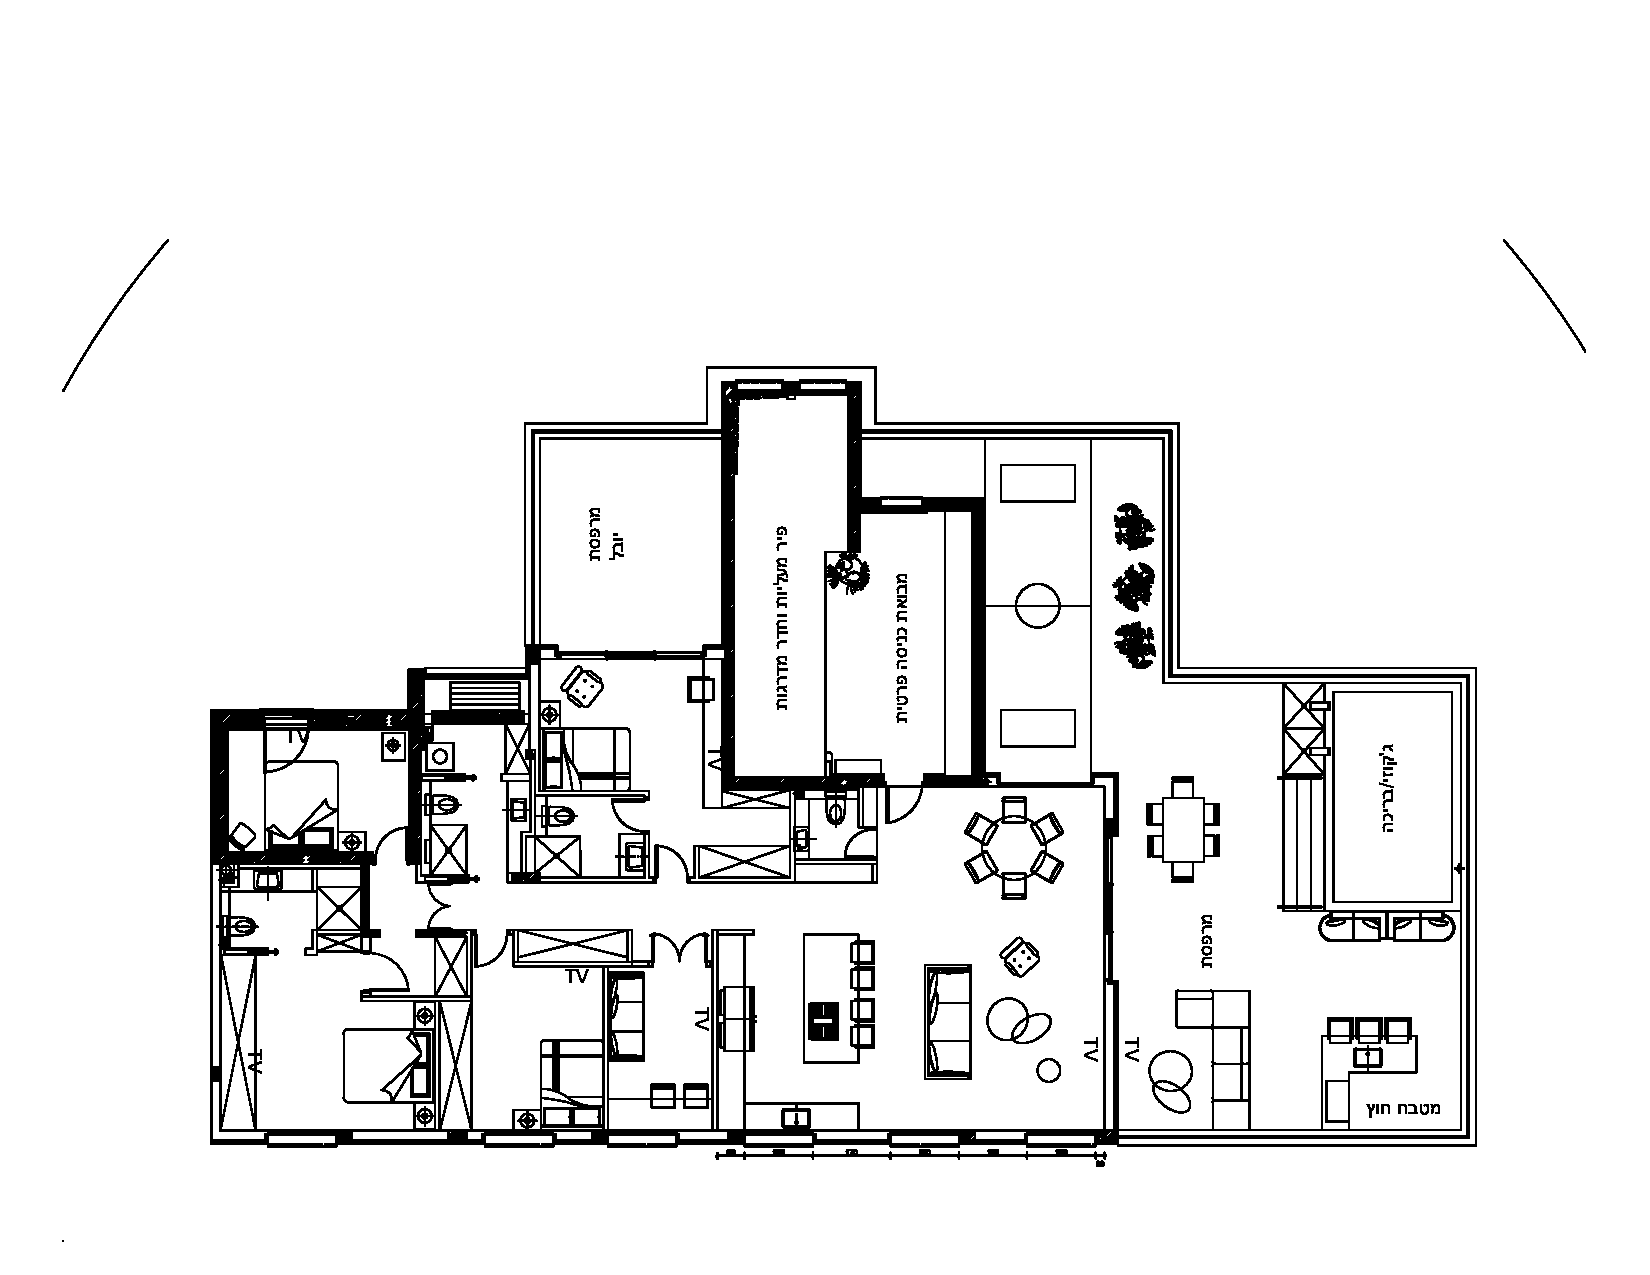door: (883, 792, 928, 838), (375, 943, 414, 996), (469, 936, 512, 984), (651, 830, 692, 879)
wall: (972, 501, 988, 789), (725, 475, 737, 794)
